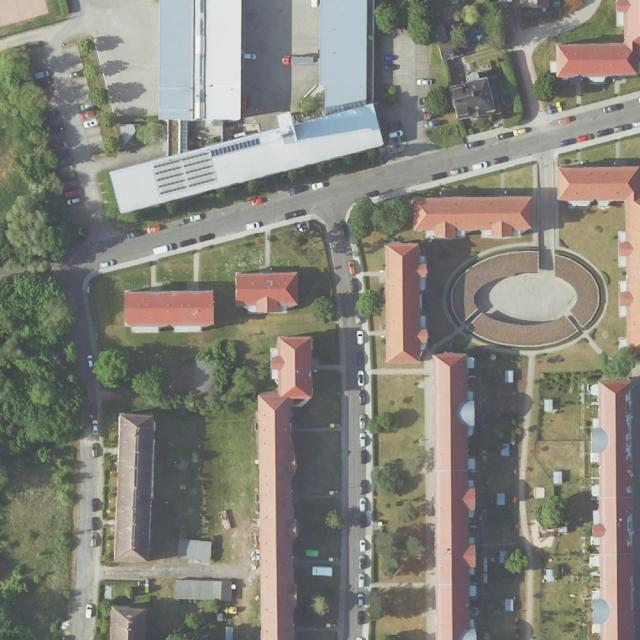PV: (153, 150, 217, 195), (210, 137, 261, 158)
